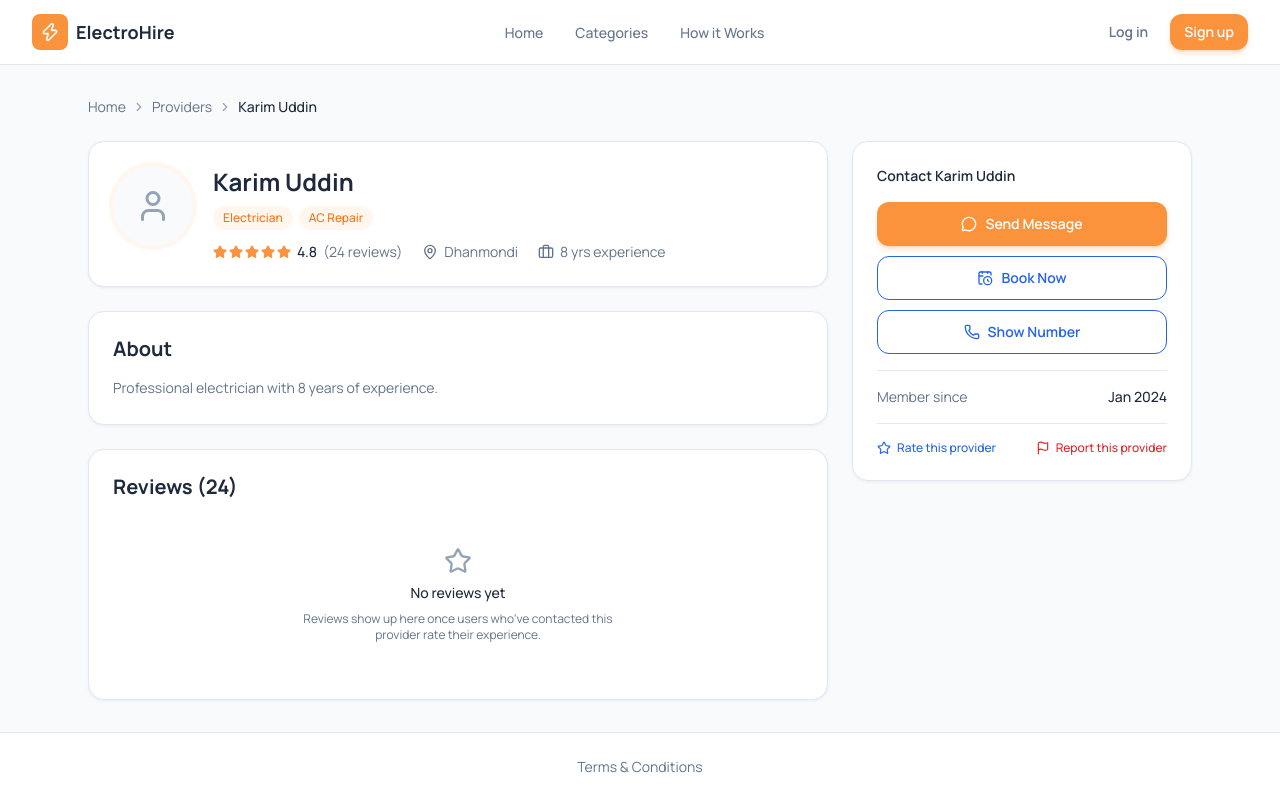
ProviderDetailPage › sends an unauthenticated visitor to /login when they try to message the provider
Expected: the heading "Karim Uddin" is shown, [213,165,354,198]
Step 1. Click the button "Send Message" → (1022, 224), box [877,202,1167,246]
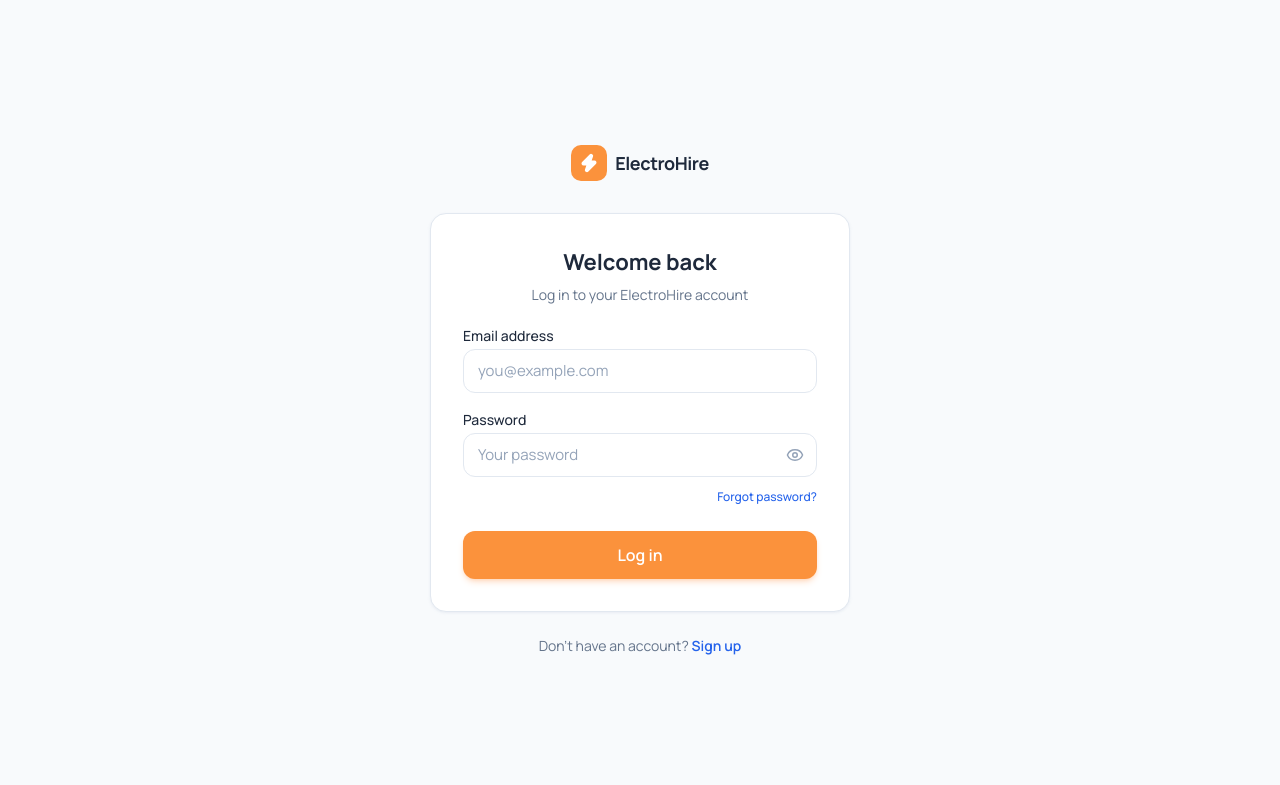
Now the heading "Welcome back" is shown, box [563,246,717,276]
